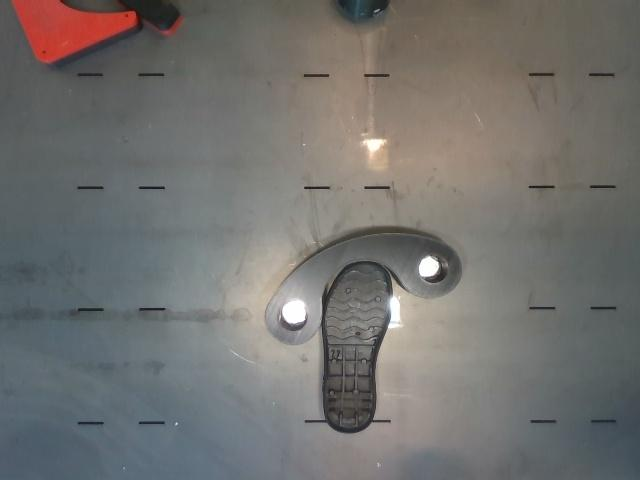shoes: (325, 264, 390, 428)
